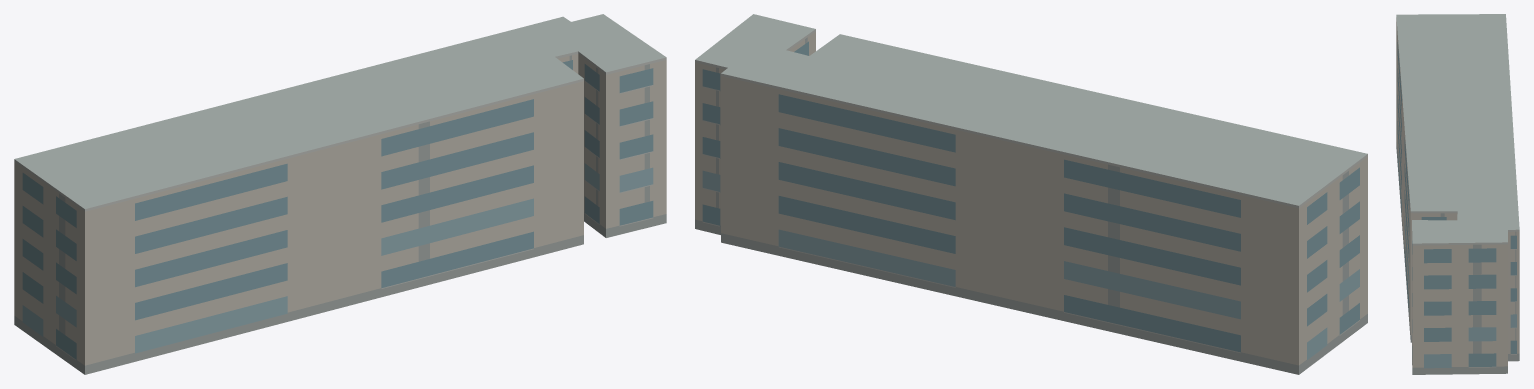
File: survey-upis-32767983.glb
3 renders of one model, left to right at view 1: azimuth 30°, elevation 25°; view 2: azimuth 150°, elevation 25°; view 3: azimuth 270°, elevation 25°, orthographic. The views are drawn at different scales.
Parts seen in each view (by area): view 1: survey-upis-32767983.tmp; view 2: survey-upis-32767983.tmp; view 3: survey-upis-32767983.tmp.
Boxes of the visible parts, x1,y1,x2,y2 form: survey-upis-32767983.tmp: (14, 14, 666, 374); survey-upis-32767983.tmp: (695, 14, 1367, 374); survey-upis-32767983.tmp: (1396, 14, 1519, 374).
Size of the model in its own units: 61.78 by 16.48 by 14.04.
